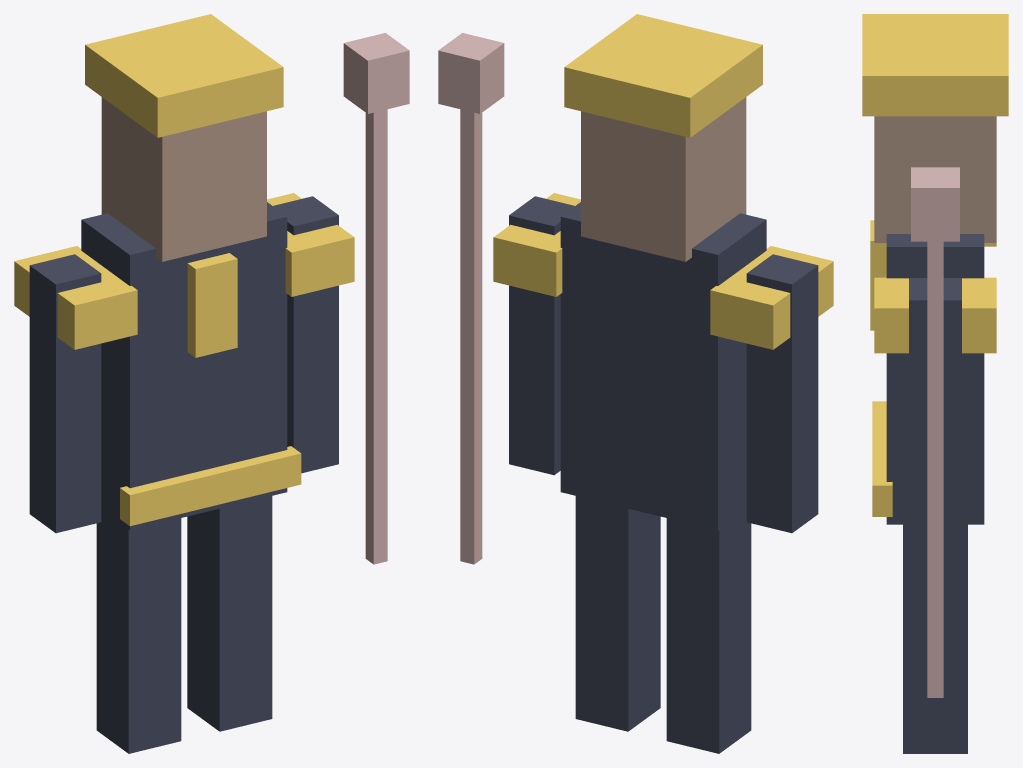
The model's file is 06_lio_riftwalker_keeper_of_rooftop.glb.
3 views of the same model, side by side, from view 1: azimuth 30°, elevation 25°; view 2: azimuth 150°, elevation 25°; view 3: azimuth 270°, elevation 25° (orthographic).
Parts seen in each view (by area): view 1: Lio Riftwalker, Keeper of Rooftop; view 2: Lio Riftwalker, Keeper of Rooftop; view 3: Lio Riftwalker, Keeper of Rooftop.
Boxes of the visible parts, bbox=[...] form: Lio Riftwalker, Keeper of Rooftop: bbox=[14, 14, 409, 753]; Lio Riftwalker, Keeper of Rooftop: bbox=[438, 14, 833, 753]; Lio Riftwalker, Keeper of Rooftop: bbox=[862, 14, 1008, 753].
Bounding box in the file's own units: 0.9361 × 1.68 × 0.332.
